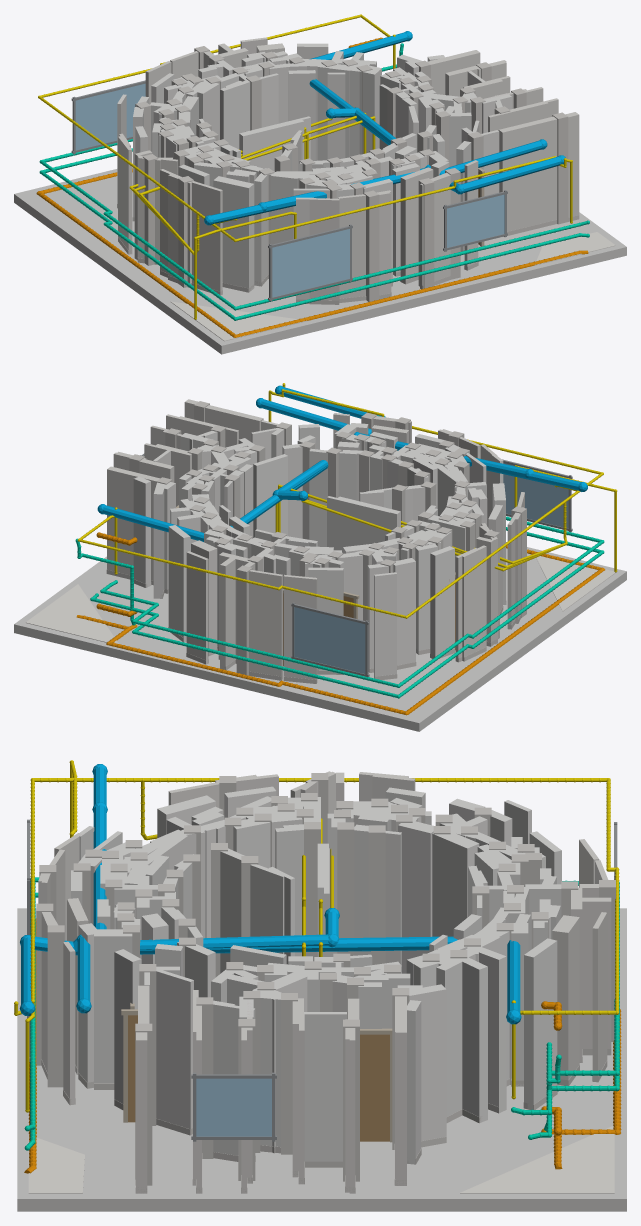
Rendered from bim_68ee5ea4447b.glb.
The picture shows the model from 3 angles, top to bottom: view 1: azimuth 30°, elevation 25°; view 2: azimuth 150°, elevation 25°; view 3: azimuth 270°, elevation 25°; orthographic projection. The views are drawn at different scales.
Visible parts, largest first — view 1: arch_geometry_0, arch_geometry_1, arch_geometry_616, arch_geometry_323, mep_plumb_drn_plumb_drn_b689b6, mep_plumb_sup_plumb_sup_b48e3a, arch_geometry_626, arch_geometry_249, mep_plumb_sup_plumb_sup_930ea9, arch_geometry_621, arch_geometry_397, arch_geometry_243 (+51 smaller); view 2: arch_geometry_0, arch_geometry_626, arch_geometry_337, mep_plumb_drn_plumb_drn_b689b6, mep_plumb_sup_plumb_sup_930ea9, mep_plumb_sup_plumb_sup_b48e3a, arch_geometry_185, arch_geometry_19, arch_geometry_9, arch_geometry_563, arch_geometry_427, arch_geometry_443 (+46 smaller); view 3: arch_geometry_0, arch_geometry_471, arch_geometry_389, arch_geometry_563, arch_geometry_367, arch_geometry_631, arch_geometry_465, arch_geometry_31, arch_geometry_211, arch_geometry_79, arch_geometry_335, arch_geometry_439 (+82 smaller).
Boxes of the visible parts, bbox=[...] form: arch_geometry_0: bbox=[14, 167, 626, 354]; arch_geometry_1: bbox=[498, 116, 557, 231]; arch_geometry_616: bbox=[272, 229, 349, 297]; arch_geometry_323: bbox=[213, 176, 254, 291]; mep_plumb_drn_plumb_drn_b689b6: bbox=[36, 168, 588, 337]; mep_plumb_sup_plumb_sup_b48e3a: bbox=[39, 148, 589, 320]; arch_geometry_626: bbox=[75, 83, 145, 150]; arch_geometry_249: bbox=[191, 181, 222, 294]; mep_plumb_sup_plumb_sup_930ea9: bbox=[39, 139, 589, 310]; arch_geometry_621: bbox=[447, 194, 504, 247]; arch_geometry_397: bbox=[400, 167, 433, 282]; arch_geometry_243: bbox=[338, 194, 365, 298]; arch_geometry_0: bbox=[14, 542, 626, 731]; arch_geometry_626: bbox=[294, 607, 365, 673]; arch_geometry_337: bbox=[249, 570, 282, 680]; mep_plumb_drn_plumb_drn_b689b6: bbox=[106, 545, 605, 715]; mep_plumb_sup_plumb_sup_930ea9: bbox=[130, 516, 604, 687]; mep_plumb_sup_plumb_sup_b48e3a: bbox=[132, 527, 604, 698]; arch_geometry_185: bbox=[430, 546, 454, 658]; arch_geometry_19: bbox=[327, 496, 390, 553]; arch_geometry_9: bbox=[107, 466, 157, 580]; arch_geometry_563: bbox=[25, 584, 118, 643]; arch_geometry_427: bbox=[462, 545, 486, 660]; arch_geometry_443: bbox=[374, 572, 396, 678]; arch_geometry_0: bbox=[17, 908, 626, 1211]; arch_geometry_471: bbox=[304, 1012, 346, 1161]; arch_geometry_389: bbox=[156, 970, 193, 1129]; arch_geometry_563: bbox=[460, 1126, 614, 1193]; arch_geometry_367: bbox=[524, 938, 557, 1109]; arch_geometry_631: bbox=[196, 1078, 271, 1136]; arch_geometry_465: bbox=[409, 984, 446, 1140]; arch_geometry_31: bbox=[456, 957, 487, 1122]; arch_geometry_211: bbox=[398, 820, 433, 973]; arch_geometry_79: bbox=[432, 831, 479, 936]; arch_geometry_335: bbox=[94, 929, 132, 1083]; arch_geometry_439: bbox=[552, 915, 579, 1080].
Size of the model in its own units: 12.44 by 3.29 by 10.86.
